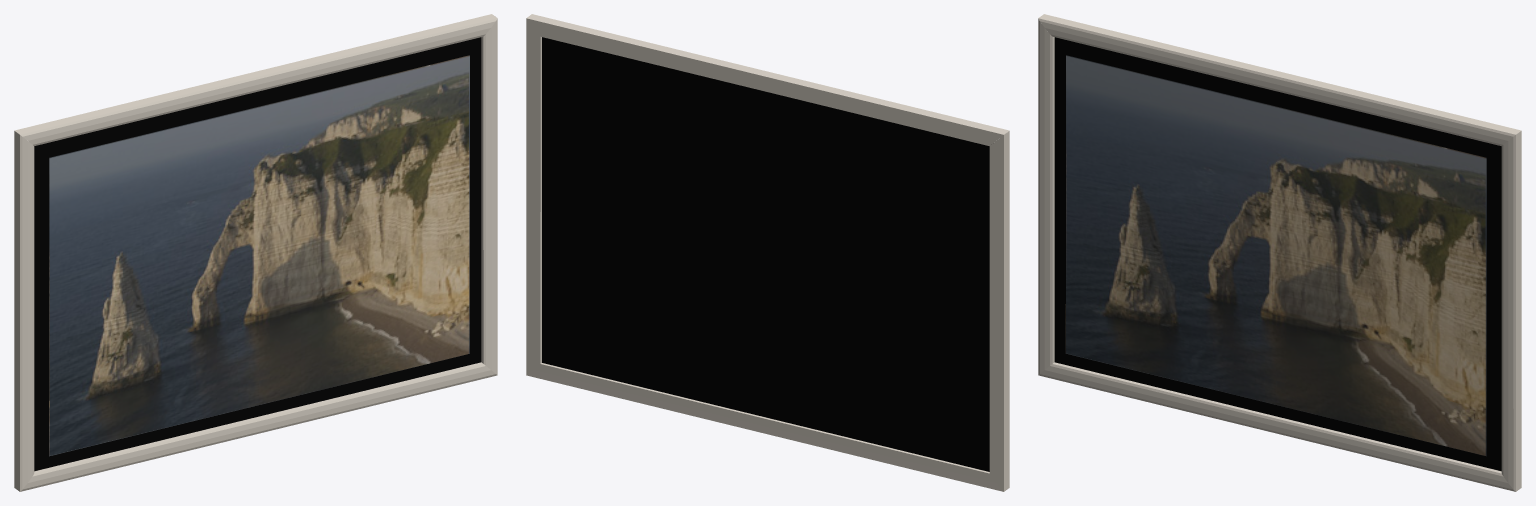
The model's file is sweethome3d-contributions-frame-etretat-281.glb.
3 views of the same model, side by side, from view 1: azimuth 30°, elevation 25°; view 2: azimuth 150°, elevation 25°; view 3: azimuth 330°, elevation 25° (orthographic).
Parts seen in each view (by area): view 1: Photo_Cube_Material_Etretat, MetalFrame_Cylinder_Aluminium.003, Frame_Black_Material.004; view 2: Frame_Black_Material.004, MetalFrame_Cylinder_Aluminium.003; view 3: Photo_Cube_Material_Etretat, MetalFrame_Cylinder_Aluminium.003, Frame_Black_Material.004.
Part boxes in pixels (x1=…): Photo_Cube_Material_Etretat: x1=49, y1=55, x2=469, y2=456; MetalFrame_Cylinder_Aluminium.003: x1=14, y1=14, x2=497, y2=491; Frame_Black_Material.004: x1=34, y1=37, x2=481, y2=471; Frame_Black_Material.004: x1=542, y1=37, x2=989, y2=471; MetalFrame_Cylinder_Aluminium.003: x1=526, y1=14, x2=1009, y2=491; Photo_Cube_Material_Etretat: x1=1065, y1=55, x2=1486, y2=456; MetalFrame_Cylinder_Aluminium.003: x1=1038, y1=14, x2=1521, y2=491; Frame_Black_Material.004: x1=1054, y1=37, x2=1501, y2=471.
Bounding box in the file's own units: 67 × 47.86 × 1.6.
3 materials, 1 textured.
